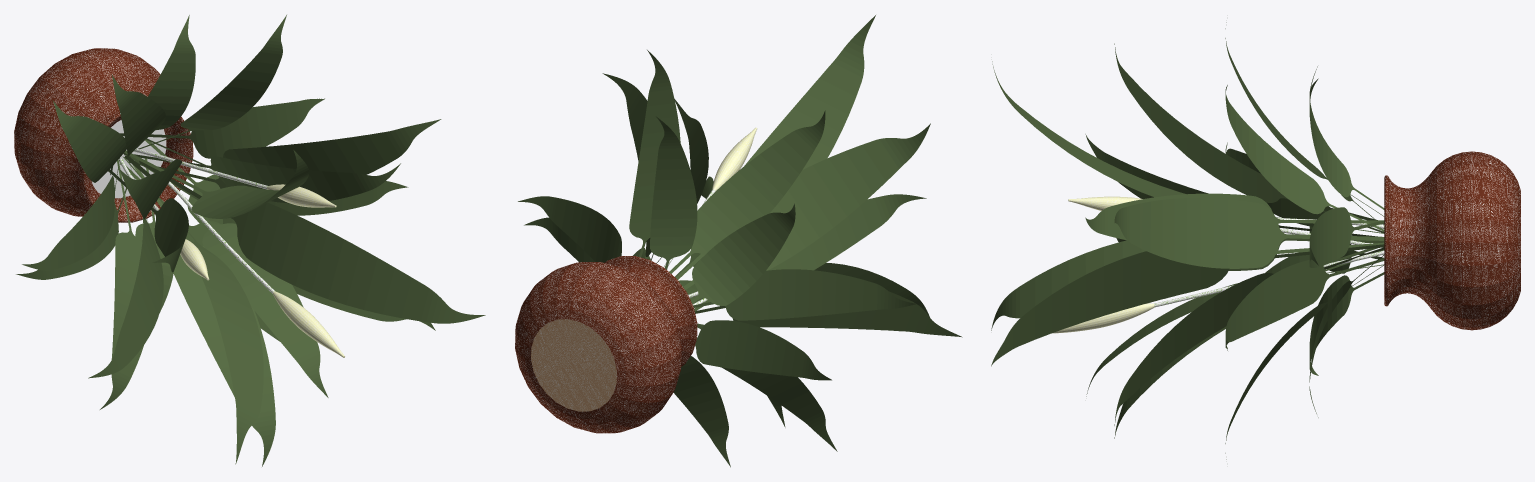
3 views of the same model, side by side, from view 1: azimuth 30°, elevation 25°; view 2: azimuth 150°, elevation 25°; view 3: azimuth 270°, elevation 25° (orthographic). The views are drawn at different scales.
Parts seen in each view (by area): view 1: potted plant; view 2: potted plant; view 3: potted plant.
Boxes of the visible parts, <box> form: potted plant: <box>14,15,485,466</box>; potted plant: <box>515,15,962,467</box>; potted plant: <box>991,22,1520,459</box>.
Bounding box in the file's own units: 17.77 × 17.26 × 20.62.
